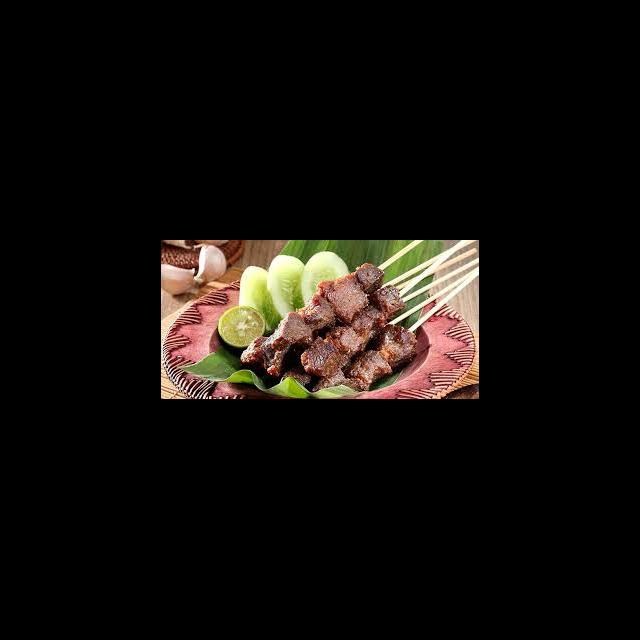food_waste: (250, 280, 389, 368)
